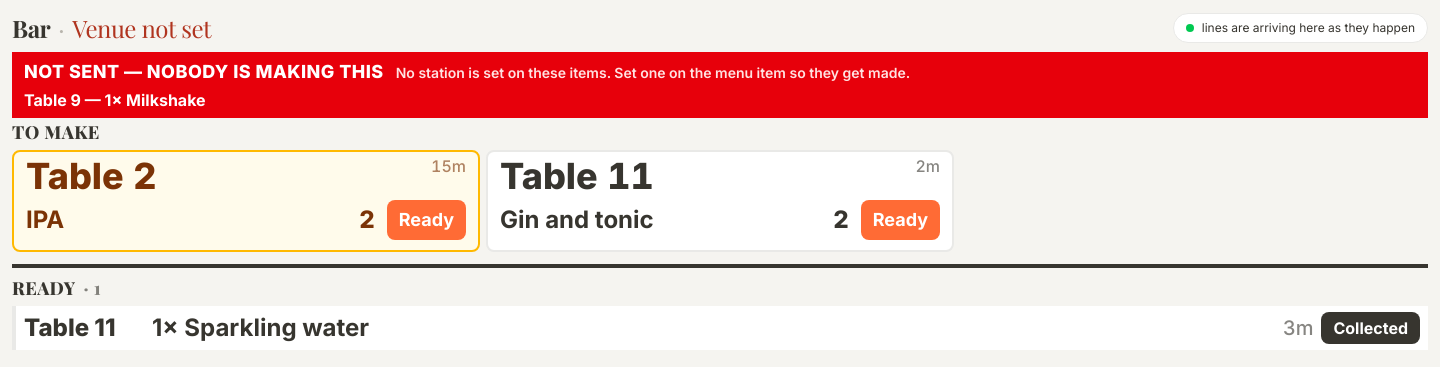
Test: BarScreen — collected-must-be-recoverable (the one ruling changed from the proposal) › a collected line stays visible, struck through, with Undo — not vanished on the next render
Click the button "Collected" at (1371, 328), box [1321,312,1420,344]
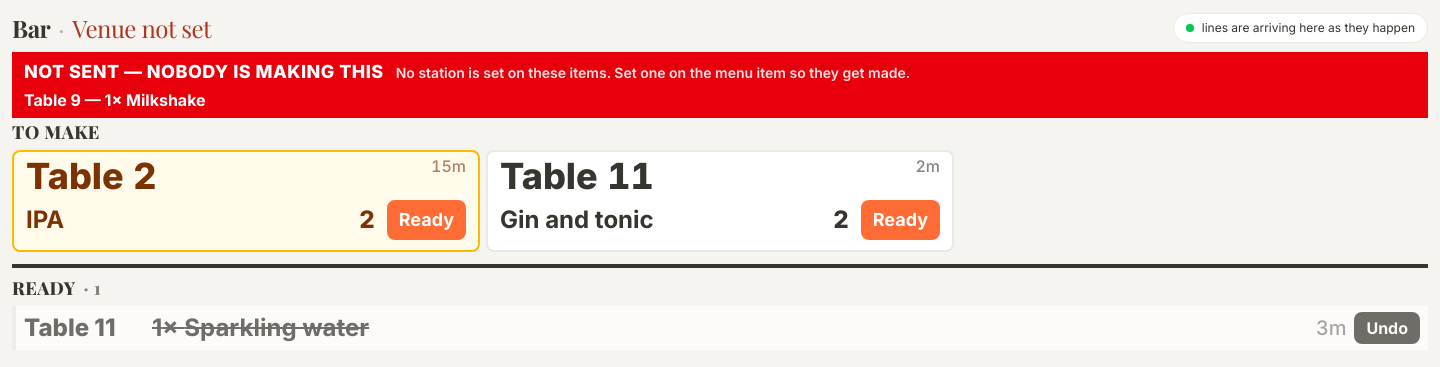
expect the text "1× Sparkling water" is shown: met, box [152,313,369,342]
expect the button with test id "dispatch-row-undo" reads "Undo": met, box [1354,312,1420,344]
